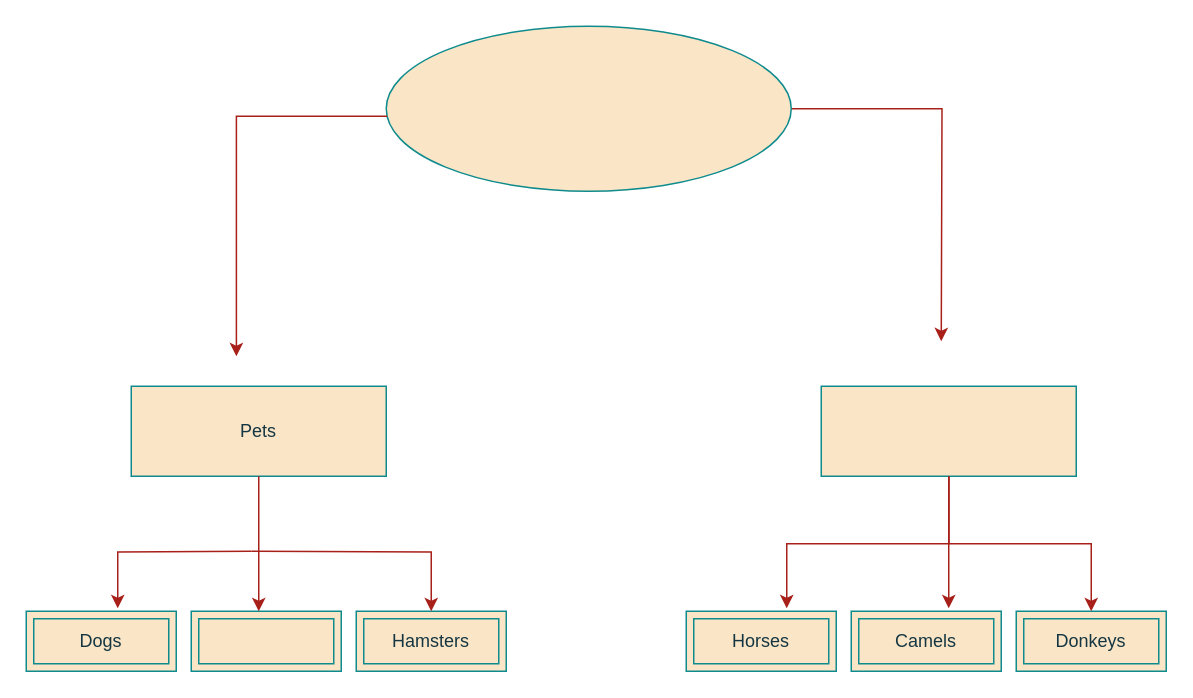
The diagram is 1193 pixels wide and 698 high, and some of its shapes have lost their labels. The shapes that lost their labels are listed below. From the top down, each one's centre as x and y in pixels, then its label:
At (588,108): "ANIMALS name birthday comands count".
At (948,430): "Pack_animals".
At (265,640): "Cats".
